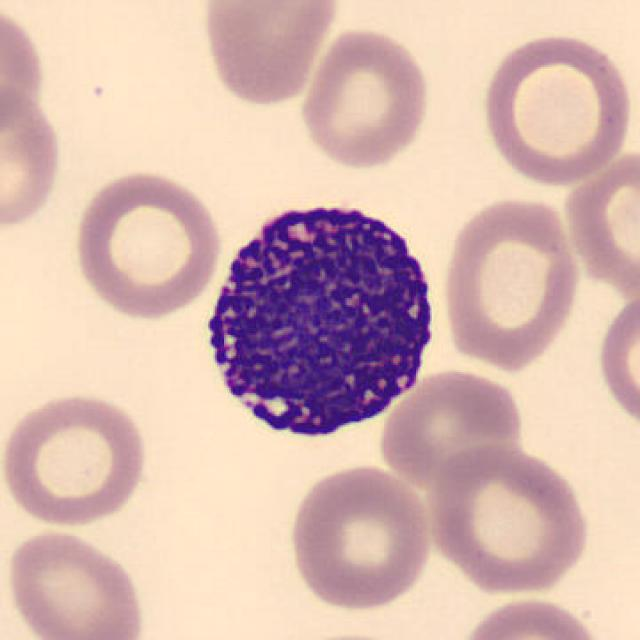Basophil: (190, 183, 452, 455)
RBC: (421, 441, 594, 596), (437, 192, 583, 372), (476, 27, 636, 190), (69, 166, 224, 321), (282, 460, 436, 614), (0, 388, 153, 529), (295, 25, 436, 171), (377, 365, 526, 488), (1, 523, 149, 640), (197, 0, 344, 109), (567, 156, 640, 308), (0, 78, 66, 234), (455, 594, 606, 640), (0, 2, 48, 141), (594, 286, 638, 436), (280, 627, 421, 640)
